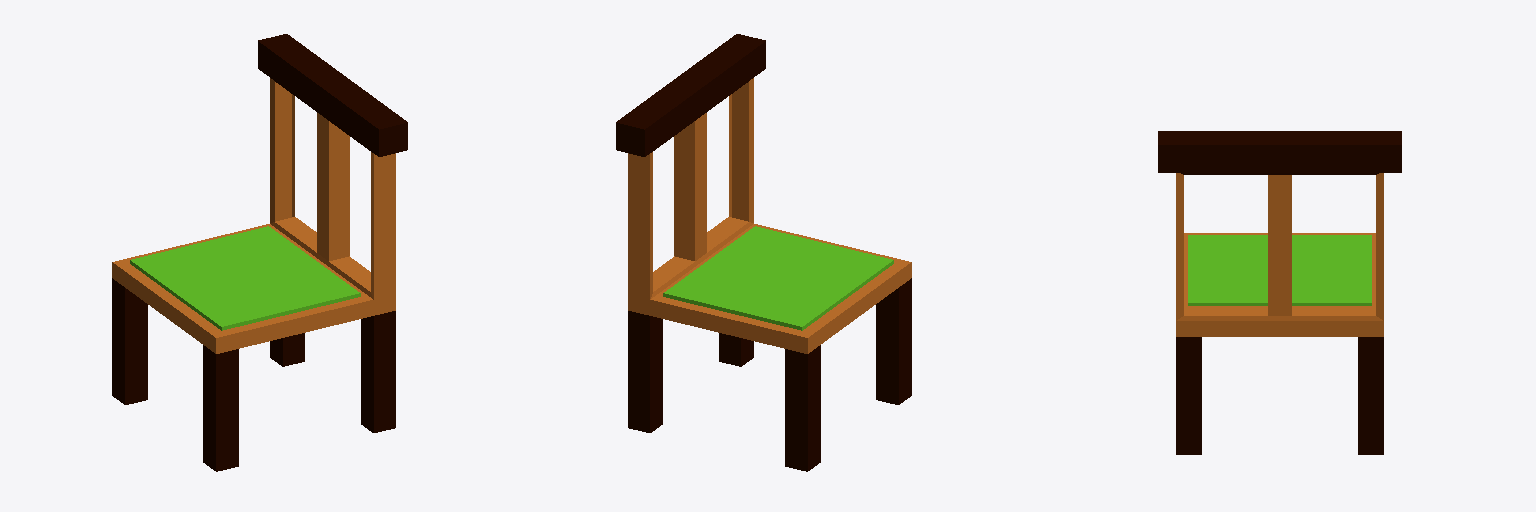
File: Chair_1.obj
3 views of the same model, side by side, from view 1: azimuth 30°, elevation 25°; view 2: azimuth 150°, elevation 25°; view 3: azimuth 270°, elevation 25° (orthographic).
Parts seen in each view (by area): view 1: Chair_1_Cube.001; view 2: Chair_1_Cube.001; view 3: Chair_1_Cube.001.
Boxes of the visible parts, box(x1,y1,x2,y2) form: Chair_1_Cube.001: box(112, 34, 407, 471); Chair_1_Cube.001: box(616, 34, 911, 471); Chair_1_Cube.001: box(1158, 131, 1401, 454).
Size of the model in its own units: 3.33 by 5.41 by 3.83.